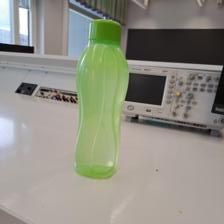bottle: (69, 18, 129, 181)
